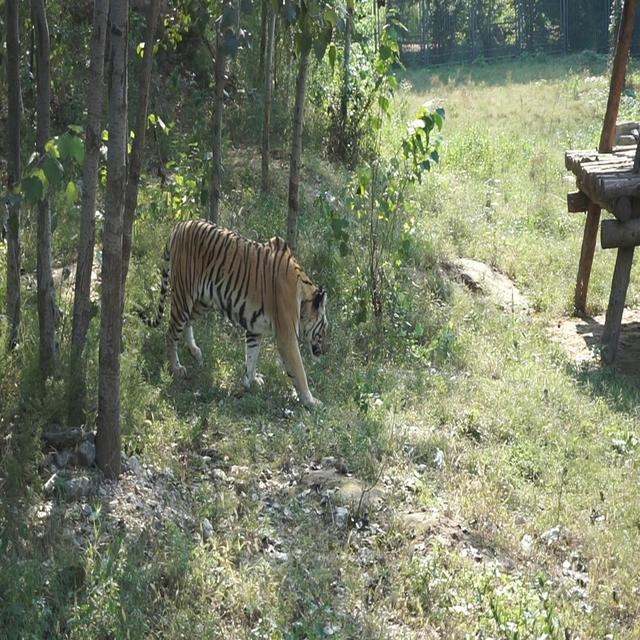tiger: (135, 216, 329, 410)
